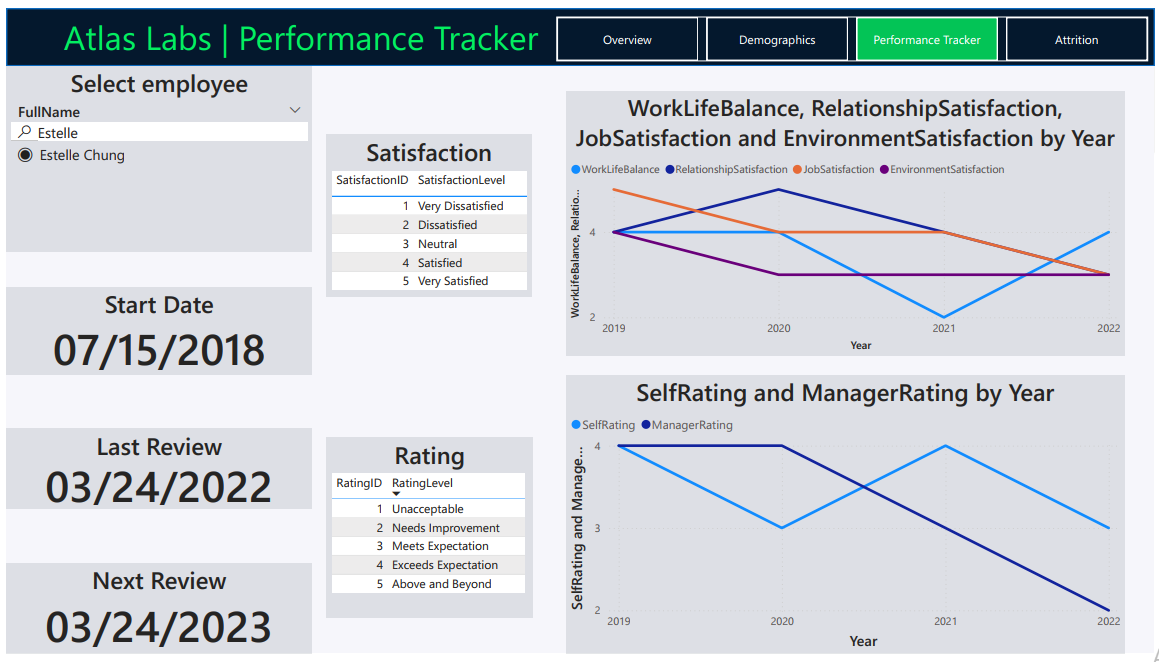

Layout of this report page (visuals, bound fields, positions):
{"tool":"powerbi","page":{"name":"Performance Tracker","canvas":[1280,720],"ordinal":2},"visuals":[{"type":"slicer","title":"Select employee","fields":{"Values":["Dim_Employee.FullName"]},"box":[0,63.8,341.2,207.4],"z":0},{"type":"card","title":"Start Date","fields":{"Values":["Min(Dim_Employee.HireDate)"]},"box":[0,311.3,341.4,97.7],"z":1000},{"type":"card","title":"Last Review","fields":{"Values":["_Measures.LastReviewDate"]},"box":[0,469.3,341.4,89.3],"z":2000},{"type":"card","title":"Next Review","fields":{"Values":["_Measures.NextReviewDate"]},"box":[0,618.7,341.4,101.3],"z":3000},{"type":"lineChart","fields":{"Category":["DimDate.Date.Variation.Date Hierarchy.Year"],"Y":["_Measures.WorkLifeBalance","_Measures.RelationshipSatisfaction","_Measures.JobSatisfaction","_Measures.EnvironmentSatisfaction"]},"box":[623.7,92.9,623.7,295.6],"z":4000},{"type":"lineChart","fields":{"Category":["DimDate.Date.Variation.Date Hierarchy.Year"],"Y":["_Measures.SelfRating","_Measures.ManagerRating"]},"box":[623.7,409,623.7,311.3],"z":5000},{"type":"shape","box":[0,0,1280,64],"z":6000},{"type":"textbox","box":[58.9,1.2,553.6,62.6],"z":7000},{"type":"tableEx","title":"Rating","fields":{"Values":["Dim_RatingLevel.RatingID","Dim_RatingLevel.RatingLevel"]},"box":[357.2,478.7,229.5,201.3],"z":8000},{"type":"tableEx","title":"Satisfaction","fields":{"Values":["Dim_SatisfiedLevel.SatisfactionID","Dim_SatisfiedLevel.SatisfactionLevel"]},"box":[356.6,140.9,229.2,181],"z":9000},{"type":"pageNavigator","box":[612.5,8.6,660.4,50.3],"z":10000}]}

Visuals, with their boxes in screenshot pixels (x1, y1, x2, y2), scaled from the page's 1280x720 canvas onto the 1159x662 screenshot:
"Select employee" slicer: box(0, 59, 309, 249)
"Start Date" card: box(0, 286, 309, 376)
"Last Review" card: box(0, 431, 309, 514)
"Next Review" card: box(0, 569, 309, 661)
lineChart - DimDate.Date.Variation.Date Hierarchy.Year x _Measures.WorkLifeBalance: box(565, 85, 1129, 357)
lineChart - DimDate.Date.Variation.Date Hierarchy.Year x _Measures.SelfRating: box(565, 376, 1129, 661)
shape: box(0, 0, 1158, 59)
textbox: box(53, 1, 555, 59)
"Rating" tableEx: box(323, 440, 531, 625)
"Satisfaction" tableEx: box(323, 130, 530, 296)
pageNavigator: box(555, 8, 1153, 54)
